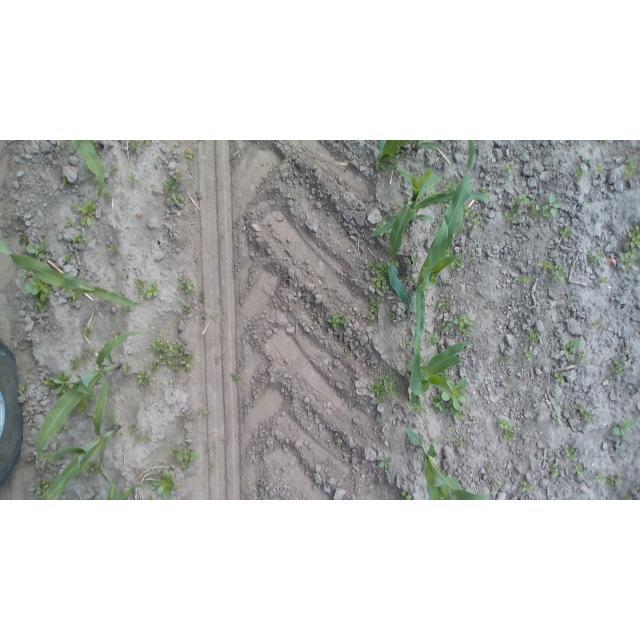Maize: (371, 168, 492, 328), (403, 140, 477, 372), (35, 331, 145, 467), (36, 372, 121, 500), (1, 238, 144, 306), (405, 426, 497, 500), (405, 323, 470, 405), (69, 141, 105, 200), (107, 474, 150, 500), (377, 140, 440, 157)
Weeds: (150, 337, 193, 373), (24, 275, 53, 311), (369, 259, 399, 293), (370, 374, 399, 405), (151, 470, 178, 499), (443, 315, 477, 338), (441, 379, 467, 409), (505, 194, 529, 224), (77, 198, 95, 227), (376, 155, 401, 175), (529, 201, 552, 222), (368, 296, 385, 324), (140, 281, 161, 301), (176, 448, 196, 469), (55, 371, 72, 395), (498, 418, 515, 442), (611, 419, 633, 437), (328, 313, 349, 331), (621, 247, 638, 269), (163, 173, 181, 193), (25, 241, 45, 259), (84, 165, 99, 188), (429, 395, 447, 414), (577, 405, 595, 424), (35, 479, 53, 497), (83, 461, 102, 478), (626, 226, 640, 249), (551, 264, 567, 284), (373, 220, 393, 236), (549, 192, 561, 218), (624, 157, 637, 181), (436, 293, 452, 311), (564, 339, 579, 358), (178, 278, 195, 294), (588, 250, 604, 266), (137, 370, 151, 387), (435, 365, 452, 379), (77, 396, 89, 415), (171, 193, 186, 207), (537, 260, 551, 274), (610, 359, 623, 374), (411, 403, 427, 415), (420, 188, 436, 200), (450, 408, 464, 421), (55, 423, 73, 433), (426, 333, 438, 348), (127, 174, 143, 185), (522, 348, 535, 361), (443, 180, 457, 192), (71, 232, 85, 244), (129, 141, 152, 148), (134, 435, 150, 445), (379, 456, 392, 468), (578, 352, 590, 365), (463, 205, 475, 218), (44, 376, 55, 390), (70, 357, 82, 369), (565, 446, 576, 459), (470, 217, 481, 230), (452, 258, 463, 271), (436, 320, 445, 335), (230, 374, 242, 385), (559, 227, 570, 239), (134, 278, 144, 291), (82, 350, 92, 363), (608, 477, 621, 487), (516, 275, 532, 283), (553, 372, 564, 383), (528, 331, 539, 342), (70, 290, 80, 302), (523, 481, 532, 494), (412, 254, 421, 267), (333, 434, 342, 447), (184, 149, 195, 159), (551, 465, 561, 476), (574, 465, 584, 476), (386, 311, 396, 322), (401, 490, 412, 500), (595, 474, 607, 483), (596, 163, 605, 175), (102, 189, 110, 202), (108, 243, 117, 254), (181, 304, 192, 313), (505, 162, 514, 173), (88, 389, 96, 401), (573, 169, 583, 178), (62, 177, 71, 187), (108, 164, 117, 174), (19, 236, 29, 245), (83, 326, 92, 336), (170, 447, 179, 457), (482, 186, 491, 196), (22, 268, 29, 280), (59, 140, 68, 149), (121, 305, 130, 314), (592, 320, 601, 329), (456, 225, 465, 234), (65, 218, 73, 228), (123, 364, 131, 374), (413, 173, 423, 181), (19, 382, 27, 391), (443, 199, 452, 207), (445, 248, 453, 257), (428, 353, 436, 362), (195, 192, 203, 201), (599, 277, 609, 284), (63, 253, 71, 261), (393, 202, 401, 210), (107, 386, 114, 395), (491, 480, 501, 486), (90, 140, 97, 148), (456, 439, 464, 446), (406, 274, 413, 282), (206, 444, 214, 451), (622, 495, 633, 500), (148, 494, 157, 500), (129, 425, 138, 431), (72, 201, 79, 208), (417, 434, 424, 441), (433, 439, 440, 446), (509, 375, 516, 382), (500, 357, 507, 364), (389, 213, 396, 220), (120, 272, 128, 278), (114, 432, 122, 438), (344, 349, 349, 358), (200, 410, 209, 415), (441, 469, 447, 476), (389, 369, 396, 375), (471, 257, 478, 263), (142, 255, 148, 261), (581, 157, 587, 163), (406, 342, 412, 348), (63, 289, 70, 294), (111, 331, 118, 336), (421, 358, 428, 363), (56, 440, 61, 446), (552, 417, 557, 423), (566, 406, 571, 412), (173, 381, 179, 386), (202, 313, 207, 318), (486, 467, 490, 473), (569, 295, 575, 299), (599, 141, 607, 144), (477, 210, 483, 214), (39, 234, 45, 238), (570, 359, 574, 363), (91, 497, 96, 500), (158, 330, 163, 333), (171, 154, 174, 158), (181, 413, 185, 416), (426, 140, 431, 142)
